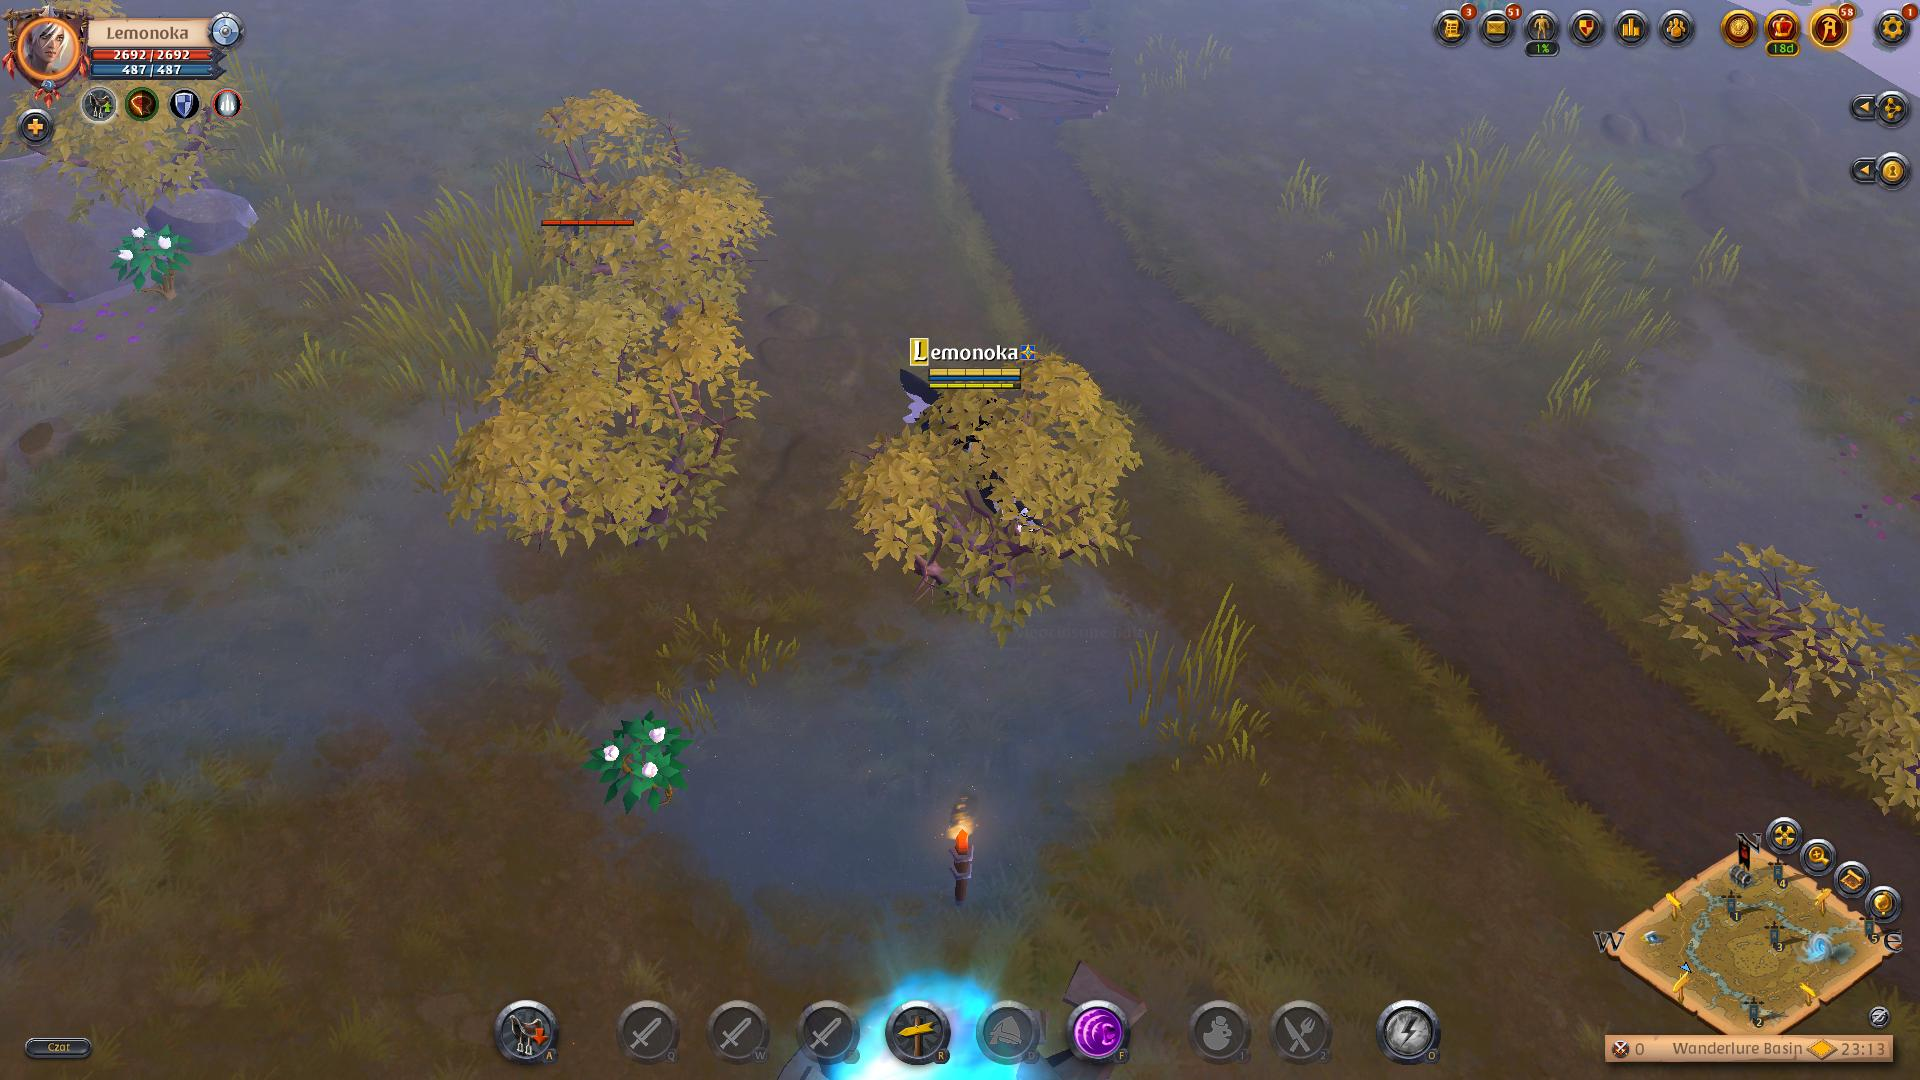fiber tier 3: (580, 708, 703, 816), (107, 219, 196, 307)
